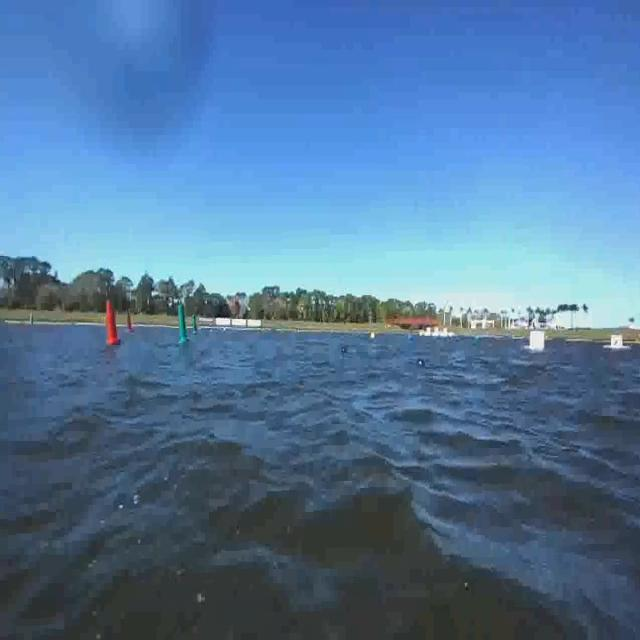black-buoy: (418, 357, 426, 371), (342, 346, 348, 356)
green-column-buoy: (177, 303, 189, 346), (190, 313, 198, 334)
red-column-buoy: (104, 302, 120, 347), (127, 312, 136, 334)
yellow-buoy: (368, 330, 376, 340)
